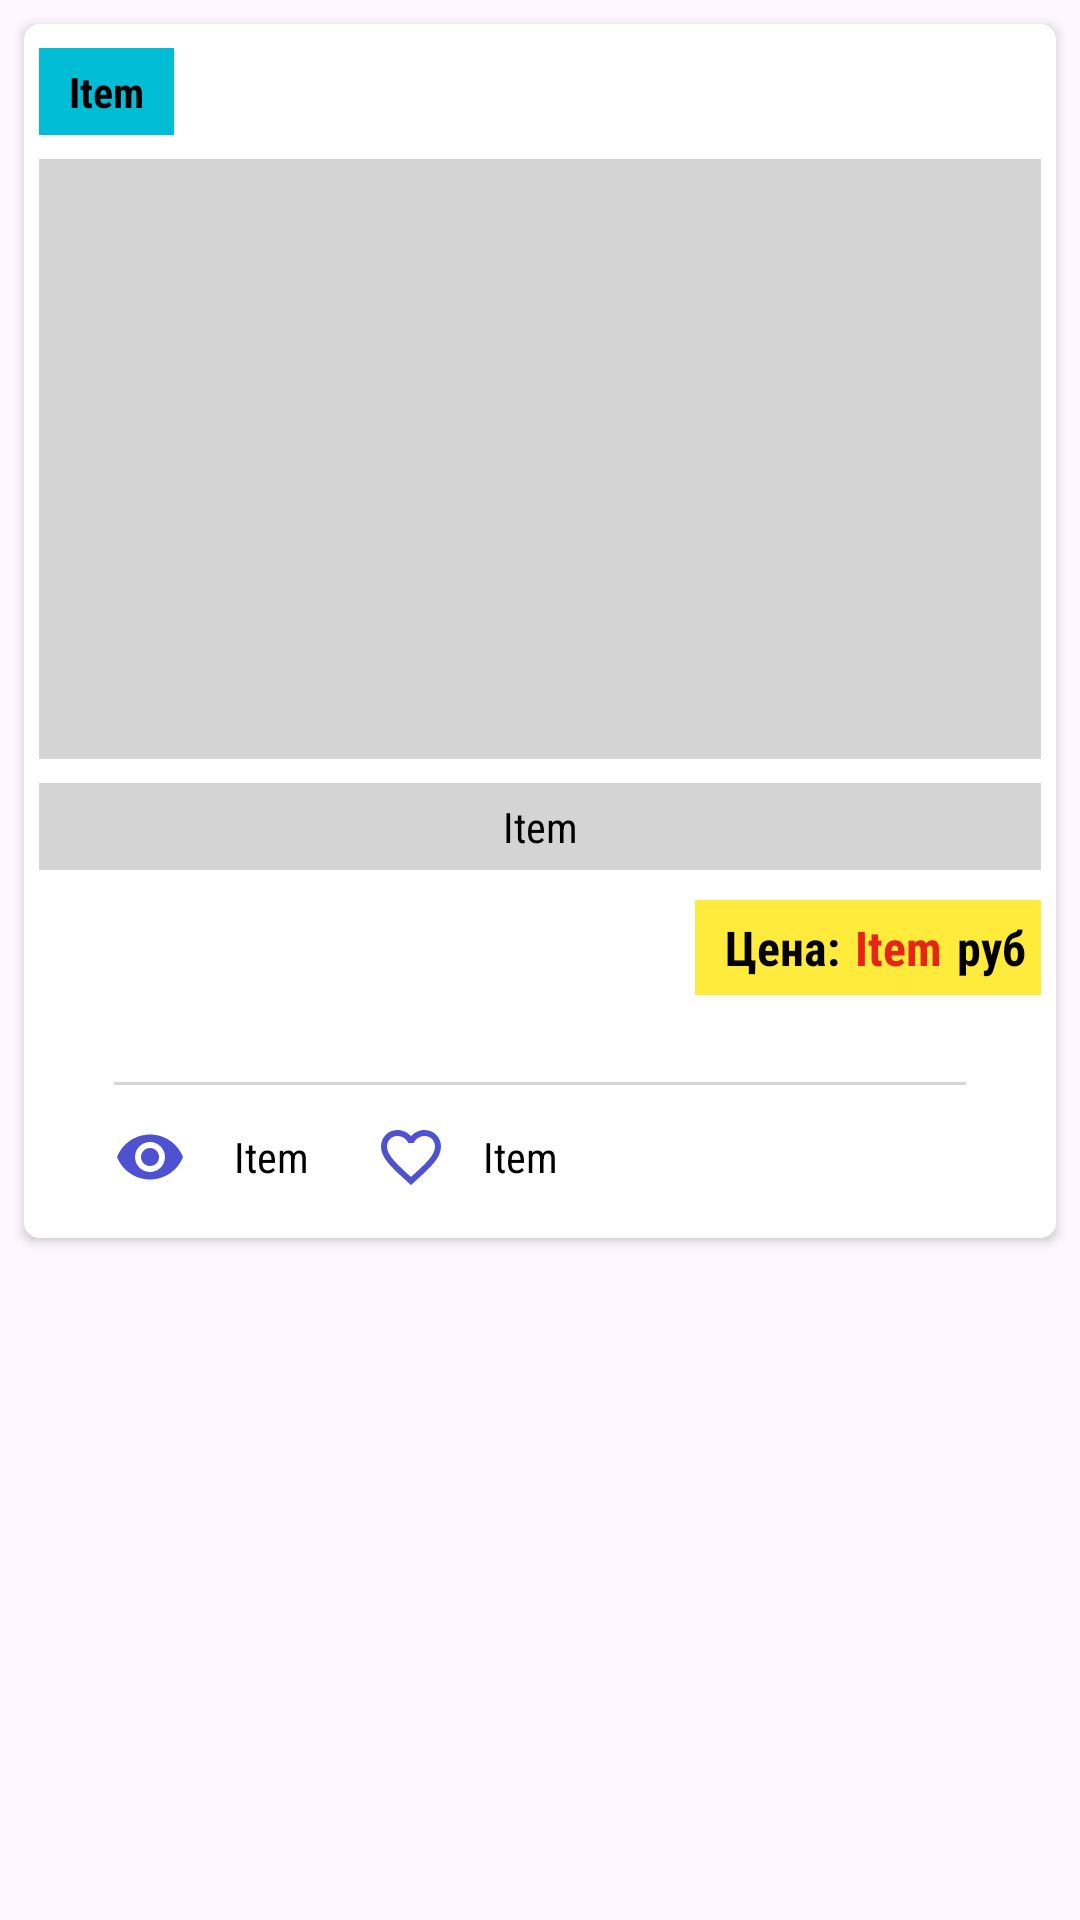

Point at icon controls on the screen. Image size 1080w x 1920h, points as point (x, y).
Количество избранного: point (411, 1157)
Количество просмотров: point (150, 1157)
